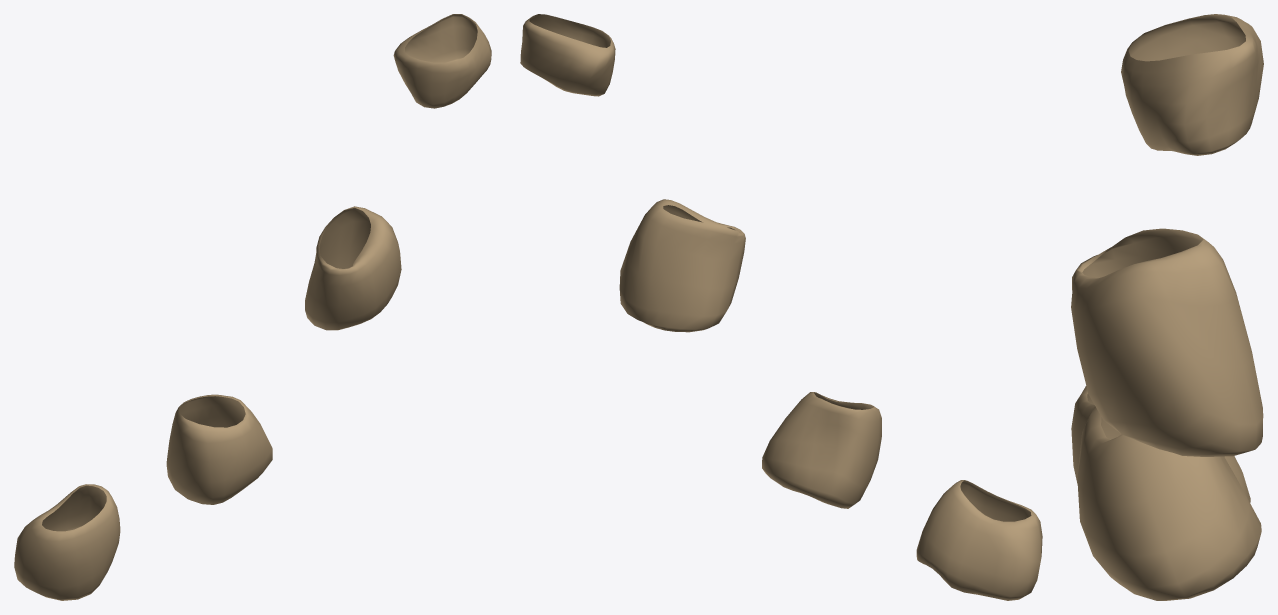
3 renders of one model, left to right at view 1: azimuth 30°, elevation 25°; view 2: azimuth 150°, elevation 25°; view 3: azimuth 270°, elevation 25°, orthographic. The views are drawn at different scales.
Visible parts, largest first — view 1: 左侧足远侧趾间关节囊; view 2: 左侧足远侧趾间关节囊; view 3: 左侧足远侧趾间关节囊.
Part boxes in pixels (x1=…): 左侧足远侧趾间关节囊: x1=14, y1=14, x2=491, y2=600; 左侧足远侧趾间关节囊: x1=520, y1=14, x2=1042, y2=600; 左侧足远侧趾间关节囊: x1=1071, y1=14, x2=1263, y2=600.
Size of the model in its own units: 0.0724 by 0.0665 by 0.0128.
